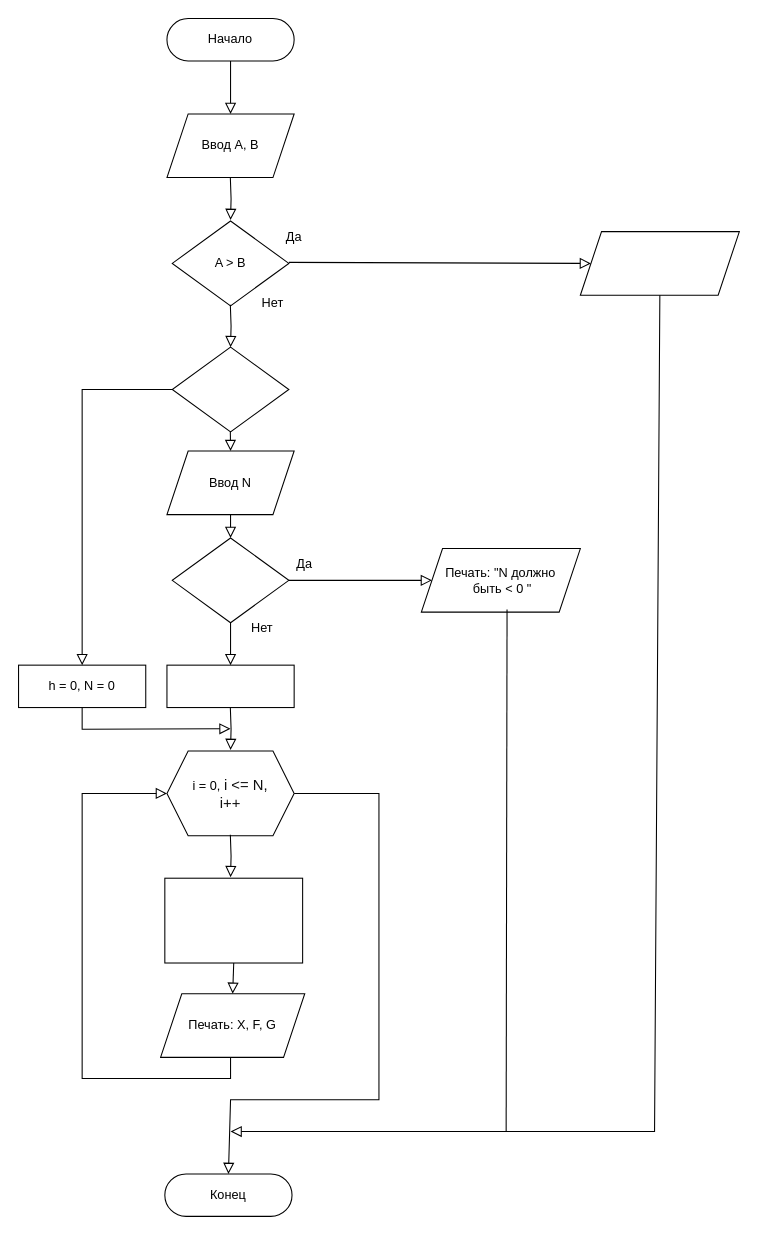
Some shapes in this 758 by 1235 pixel diagram are drawn without their labels. Each missing label, with the centre of its shape:
A == B: point (230, 389)
h = (B - A)/ N: point (230, 686)
N <= 0: point (230, 580)
X = A + i * h F = sin(x) * cos(x) G = 2 * sin(2 * x) + 1: point (233, 920)
Печать: "А должно быть < B ": point (659, 263)
